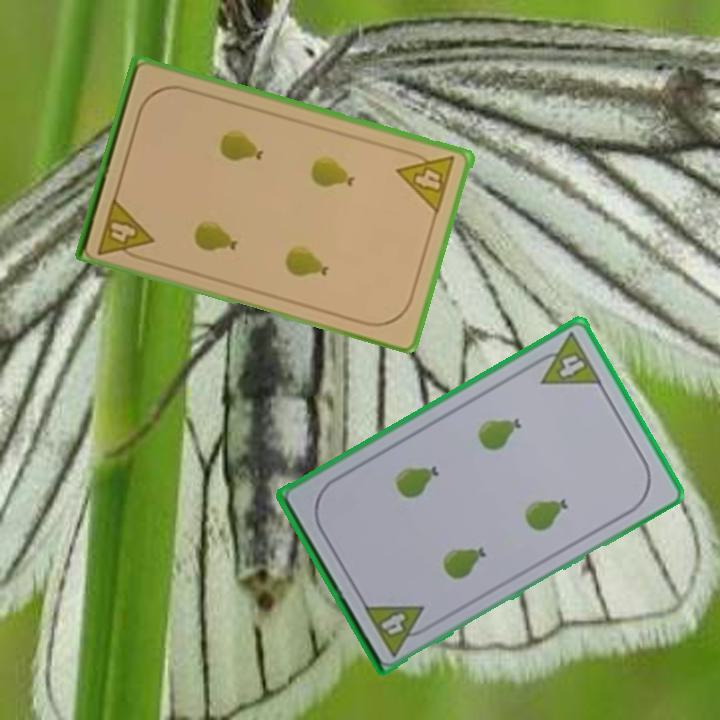4p: (394, 145, 459, 217), (527, 329, 605, 388), (94, 193, 157, 264), (360, 600, 435, 659)
